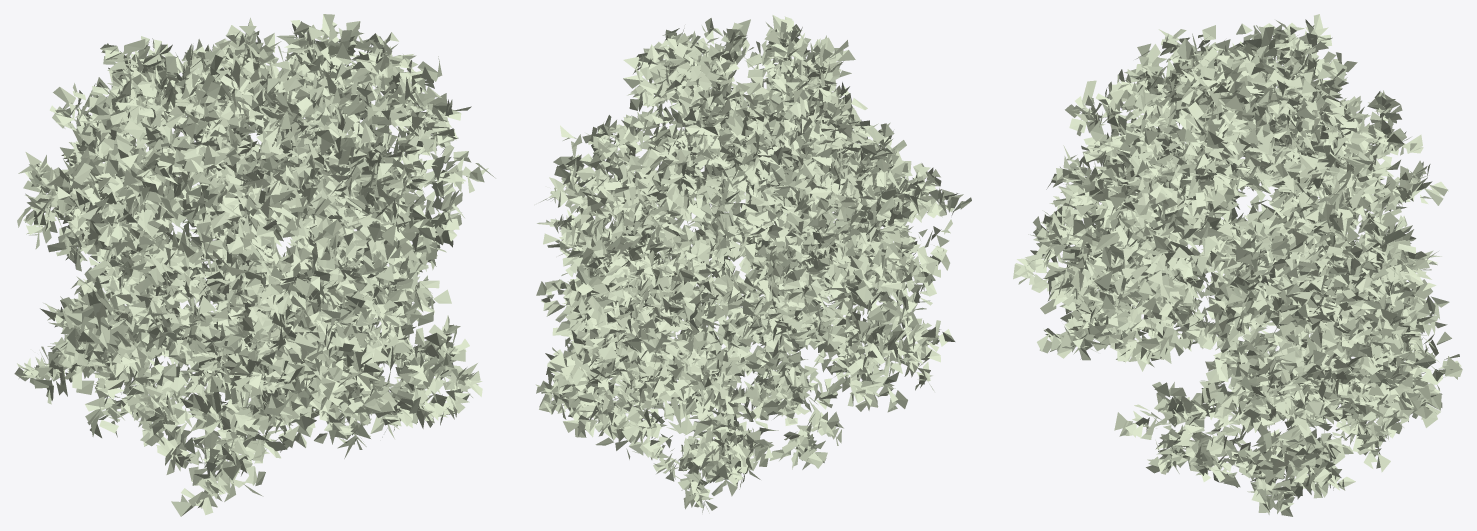
Rendered from tree1.glb.
3 renders of one model, left to right at view 1: azimuth 30°, elevation 25°; view 2: azimuth 150°, elevation 25°; view 3: azimuth 270°, elevation 25°, orthographic. The views are drawn at different scales.
Parts seen in each view (by area): view 1: Layer 01; view 2: Layer 01; view 3: Layer 01.
Part boxes in pixels (left/top/right/bottom): Layer 01: left=14, top=14, right=495, bottom=516; Layer 01: left=535, top=15, right=971, bottom=513; Layer 01: left=1013, top=14, right=1462, bottom=516.
Bounding box in the file's own units: 5.49 × 5.37 × 5.54.
